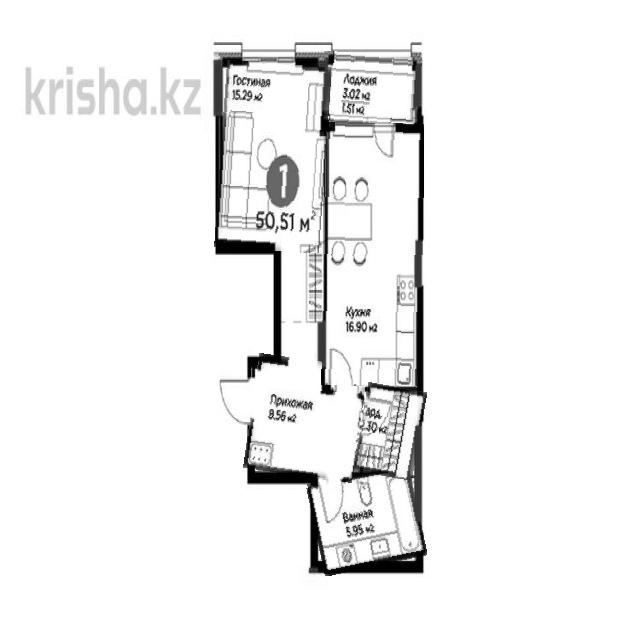balcony: (321, 53, 422, 132)
bathroom: (310, 471, 423, 572), (311, 470, 422, 570)
hallway: (247, 357, 365, 479)
kitchen: (322, 123, 423, 386)
living_room: (217, 62, 328, 251)
other: (357, 385, 423, 479)
